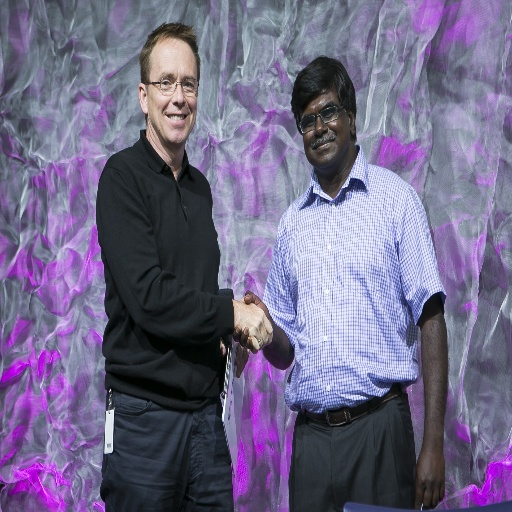hand: (233, 288, 272, 357), (412, 447, 446, 511)
